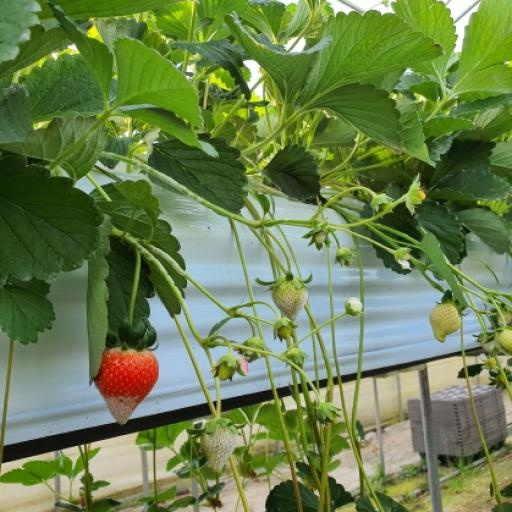Powdery Mildew Fruit: (353, 347, 420, 427), (274, 419, 312, 474), (204, 273, 241, 326)
